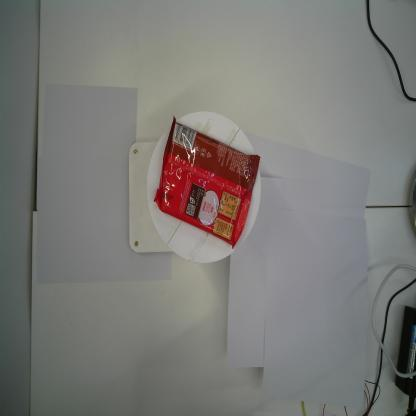Dessert: (153, 115, 260, 249)
